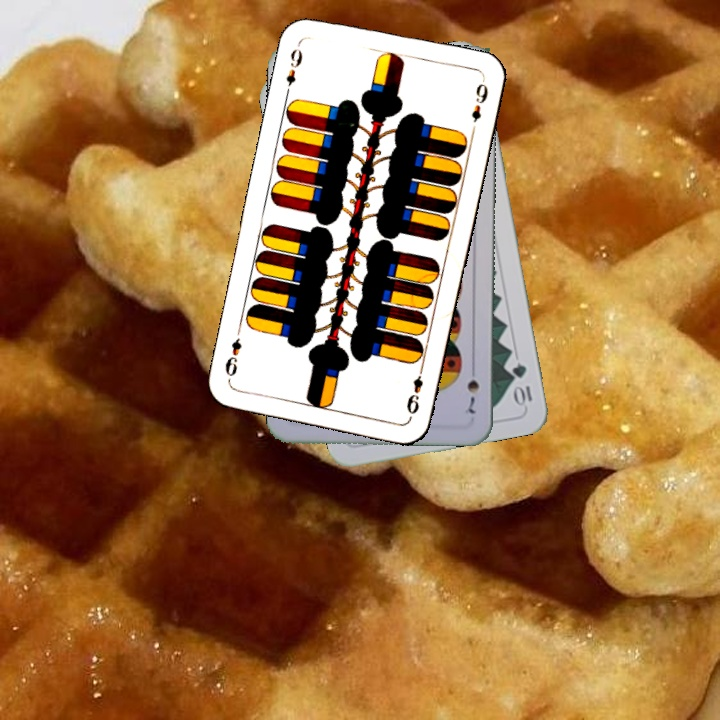E9: (402, 361, 427, 419), (282, 38, 305, 96)
G10: (508, 359, 535, 408)
S7: (463, 360, 482, 416)
